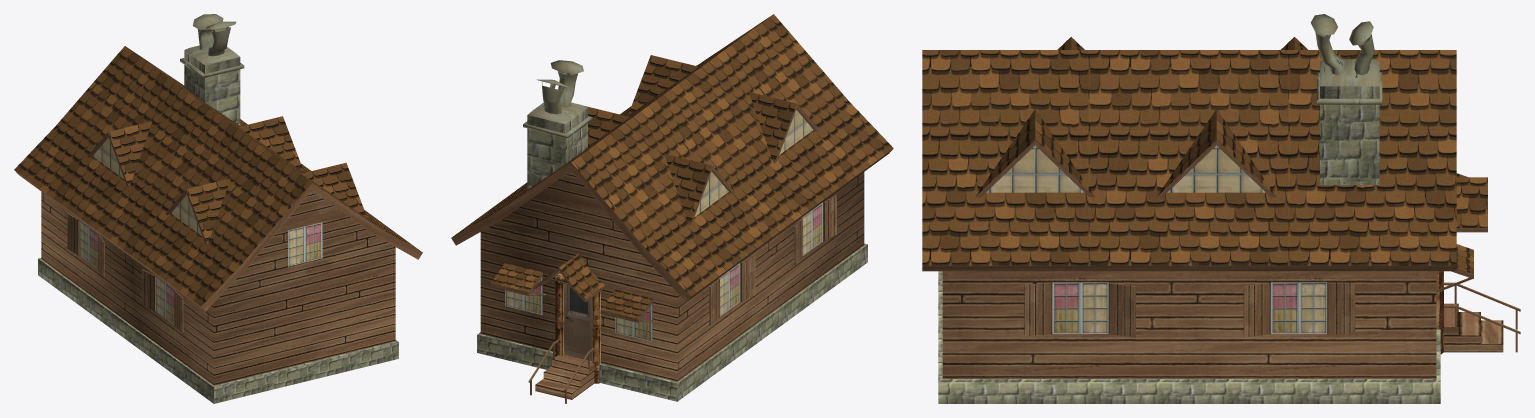
Rendered from farmhouse.glb.
3 views of the same model, side by side, from view 1: azimuth 30°, elevation 25°; view 2: azimuth 150°, elevation 25°; view 3: azimuth 270°, elevation 25° (orthographic). The views are drawn at different scales.
Parts seen in each view (by area): view 1: roof_3.jpg__, stktex_generic_WoodA.png__, stktex_generic_stoneWallA.png__, stktex_windowsSet_a.png__, stk_generic_ironA.png__; view 2: roof_3.jpg__, stktex_generic_WoodA.png__, stktex_generic_stoneWallA.png__, stktex_windowsSet_a.png__, stk_generic_ironA.png__, door.jpg__, dark-wall-wood.png__; view 3: roof_3.jpg__, stktex_generic_WoodA.png__, stktex_generic_stoneWallA.png__, stktex_windowsSet_a.png__, stk_generic_ironA.png__, dark-wall-wood.png__.
Boxes of the visible parts, x1,y1,x2,y2 form: roof_3.jpg__: (14,46,421,306); stktex_generic_WoodA.png__: (15,132,422,385); stktex_generic_stoneWallA.png__: (38,49,398,403); stktex_windowsSet_a.png__: (79,137,322,324); stk_generic_ironA.png__: (180,14,244,78); roof_3.jpg__: (453,14,893,318); stktex_generic_WoodA.png__: (451,104,892,403); stktex_generic_stoneWallA.png__: (477,105,867,401); stktex_windowsSet_a.png__: (505,110,822,341); stk_generic_ironA.png__: (523,60,592,137); door.jpg__: (564,283,591,360); dark-wall-wood.png__: (555,273,600,383); roof_3.jpg__: (922,37,1487,273); stktex_generic_WoodA.png__: (922,140,1520,378); stktex_generic_stoneWallA.png__: (938,67,1440,403); stktex_windowsSet_a.png__: (986,145,1327,333); stk_generic_ironA.png__: (1310,14,1382,104); dark-wall-wood.png__: (1436,271,1443,354).
Size of the model in its own units: 6.55 by 7.02 by 10.72.
8 materials, 7 textured.
